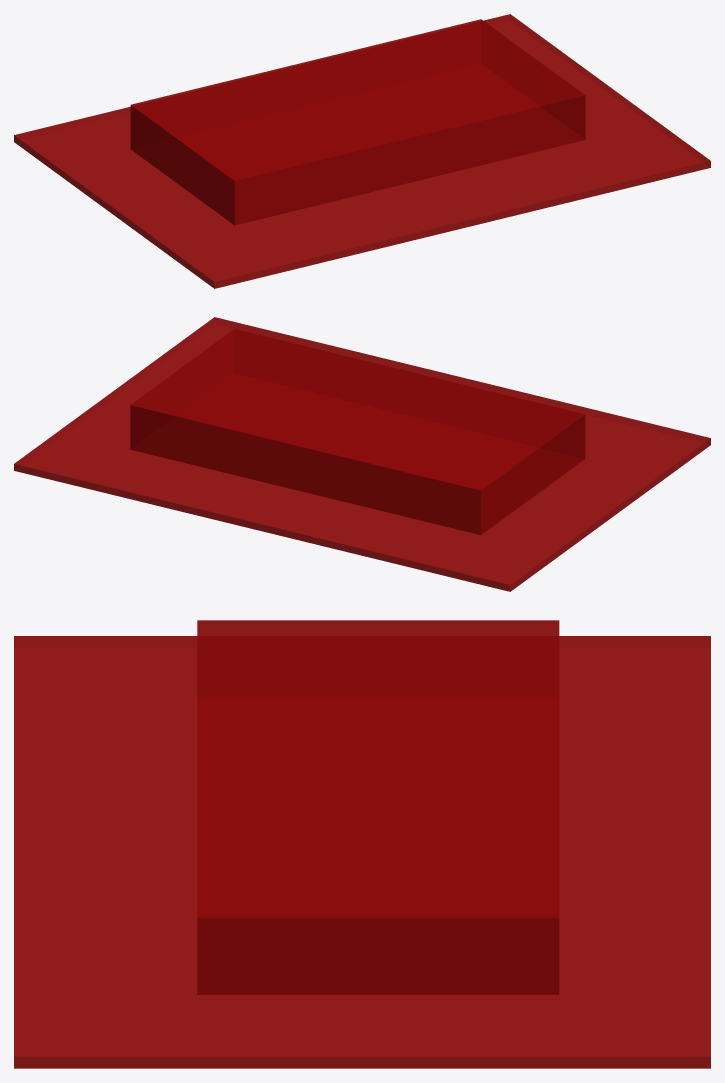
Rendered from helpers.FBX.
3 renders of one model, top to bottom at view 1: azimuth 30°, elevation 25°; view 2: azimuth 150°, elevation 25°; view 3: azimuth 270°, elevation 25°, orthographic. The views are drawn at different scales.
Visible parts, largest first — view 1: podloga, volumen_zgrade; view 2: podloga, volumen_zgrade; view 3: podloga, volumen_zgrade.
Boxes of the visible parts, box(x1,y1,x2,y2) form: podloga: box(14, 14, 710, 288); volumen_zgrade: box(130, 19, 585, 225); podloga: box(14, 317, 710, 591); volumen_zgrade: box(130, 329, 585, 534); podloga: box(14, 636, 710, 1068); volumen_zgrade: box(197, 620, 559, 994).
Size of the model in its own units: 990 by 98.17 by 693.
